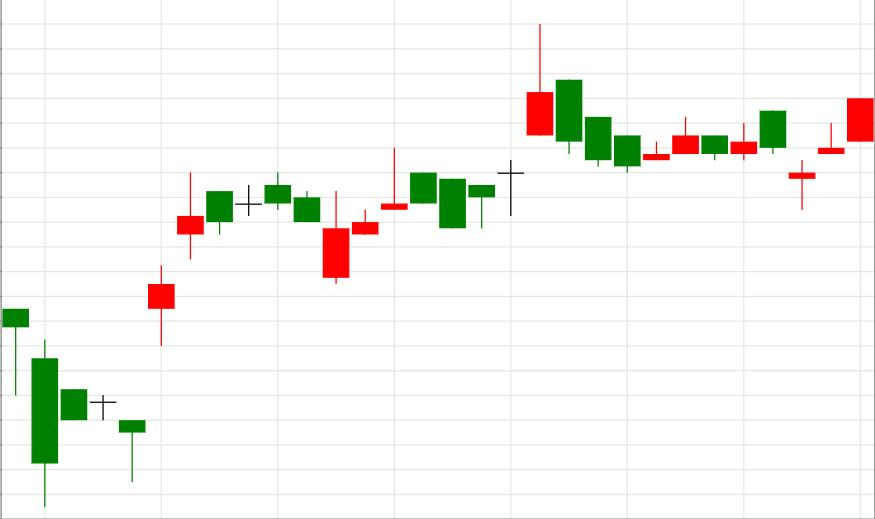shooting_star_fall: (322, 23, 553, 285)
